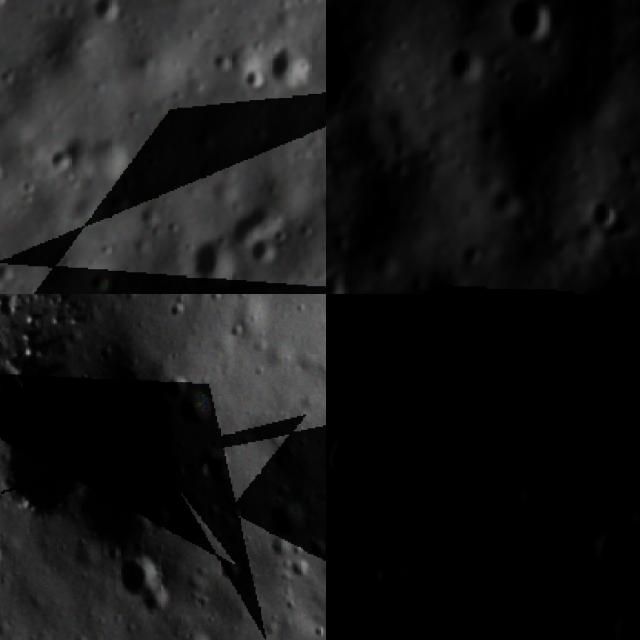crater: (0, 412, 110, 531), (206, 185, 288, 266), (326, 5, 372, 138), (326, 415, 393, 497), (577, 508, 640, 581), (175, 234, 249, 294), (113, 553, 179, 618), (25, 127, 89, 192), (257, 35, 319, 97), (505, 469, 566, 531), (235, 226, 292, 283), (504, 381, 560, 439), (353, 347, 405, 400), (585, 342, 636, 393), (69, 0, 134, 40), (482, 176, 531, 223), (443, 42, 491, 85), (505, 0, 556, 40), (70, 256, 121, 294), (342, 315, 386, 358), (588, 188, 628, 234), (269, 498, 317, 536), (178, 388, 219, 429), (598, 600, 640, 640), (454, 229, 490, 269), (300, 178, 326, 233), (418, 301, 455, 339), (326, 500, 343, 554), (219, 557, 246, 589), (388, 294, 451, 307), (182, 626, 217, 640), (475, 282, 512, 294)
